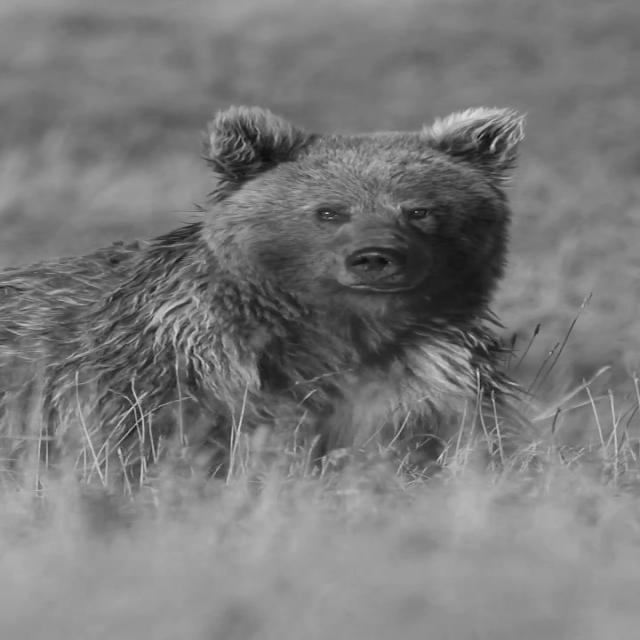Bear: (0, 103, 542, 510)
